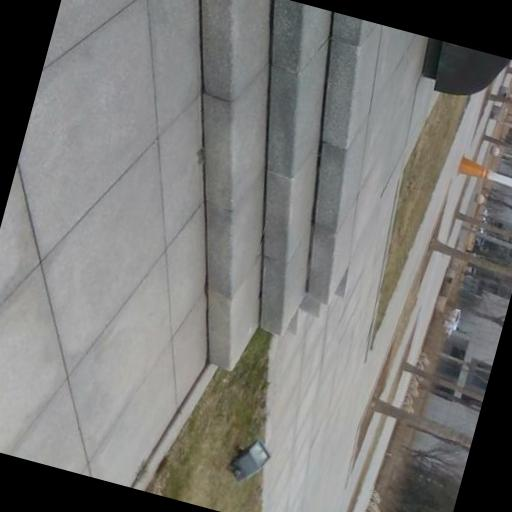stairs: (201, 0, 381, 367)
